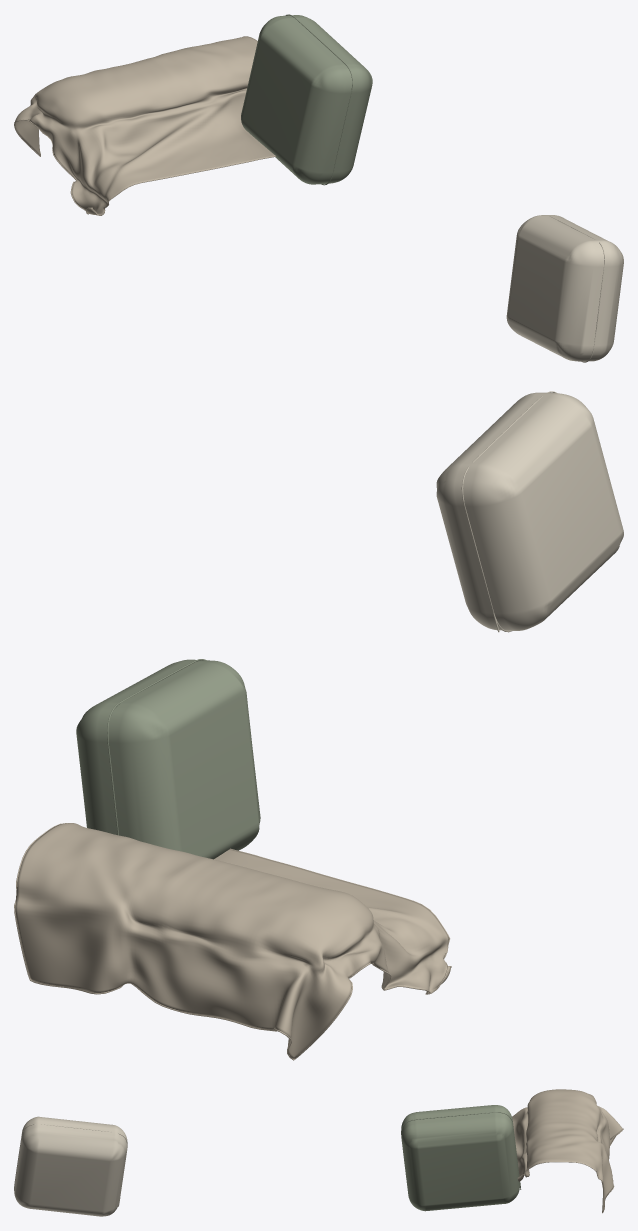
File: sofa-linen.glb
The picture shows the model from 3 angles, top to bottom: view 1: azimuth 30°, elevation 25°; view 2: azimuth 150°, elevation 25°; view 3: azimuth 270°, elevation 25°; orthographic projection. The views are drawn at different scales.
Parts seen in each view (by area): view 1: Linen throw with gravity-settled folds, Mood linen sage pillow, Mood linen oat pillow, Fine stitched throw hem; view 2: Linen throw with gravity-settled folds, Mood linen oat pillow, Mood linen sage pillow, Fine stitched throw hem; view 3: Mood linen sage pillow, Mood linen oat pillow, Linen throw with gravity-settled folds, Fine stitched throw hem.
Boxes of the visible parts, x1,y1,x2,y2 form: Linen throw with gravity-settled folds: [15, 36, 275, 215]; Mood linen sage pillow: [241, 14, 372, 185]; Mood linen oat pillow: [506, 215, 623, 362]; Fine stitched throw hem: [14, 36, 275, 215]; Linen throw with gravity-settled folds: [15, 823, 450, 1058]; Mood linen oat pillow: [436, 391, 623, 632]; Mood linen sage pillow: [76, 659, 260, 859]; Fine stitched throw hem: [14, 823, 451, 1060]; Mood linen sage pillow: [401, 1105, 521, 1211]; Mood linen oat pillow: [14, 1116, 127, 1216]; Linen throw with gravity-settled folds: [512, 1089, 622, 1211]; Fine stitched throw hem: [517, 1128, 623, 1213].
Bounding box in the file's own units: 0.7665 × 0.4276 × 2.07.
